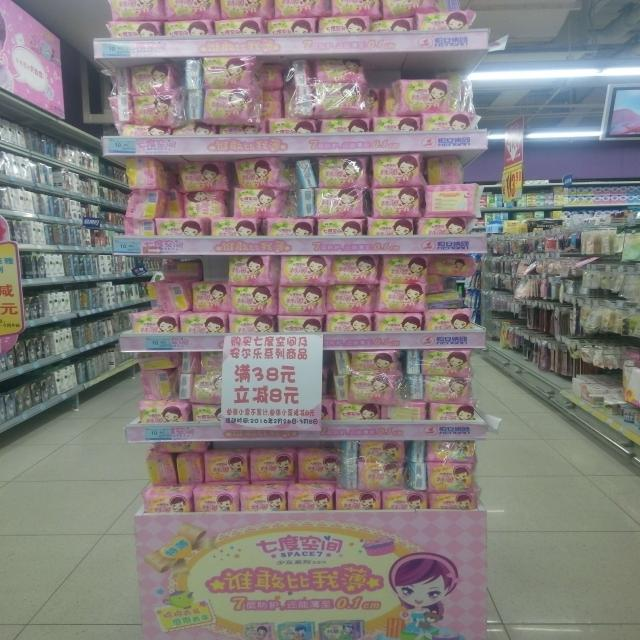unorganised: (286, 59, 366, 120), (122, 158, 160, 236), (147, 441, 204, 485), (148, 259, 194, 308), (430, 255, 467, 311), (424, 183, 482, 217), (233, 158, 289, 190), (425, 156, 471, 183), (185, 189, 226, 217), (191, 286, 229, 311)
